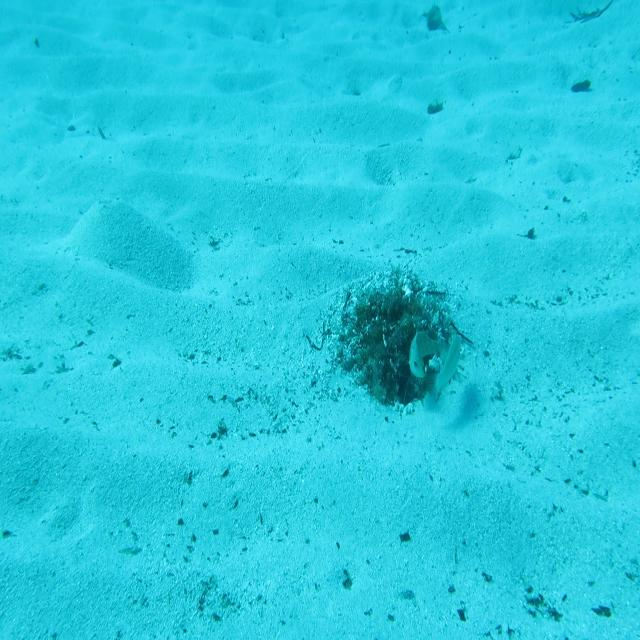DAN_CIRC: (409, 327, 443, 380)
female: (427, 332, 463, 405)
nest: (336, 252, 472, 408)
